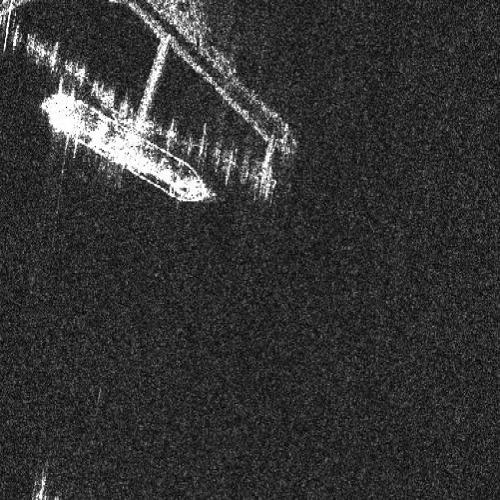ship: (42, 91, 212, 203)
